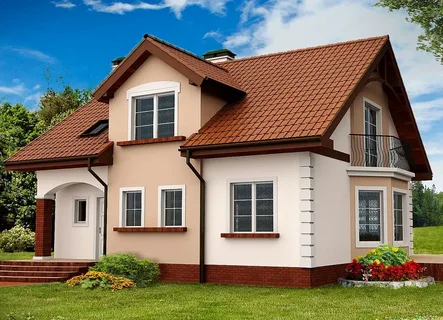private_hause: (42, 43, 424, 277)
